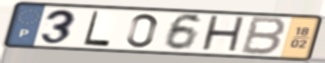0: (125, 13, 159, 49)
3: (37, 8, 83, 46)
6: (160, 12, 206, 53)
B: (238, 15, 289, 57)
H: (198, 14, 247, 55)
L: (81, 10, 113, 48)
